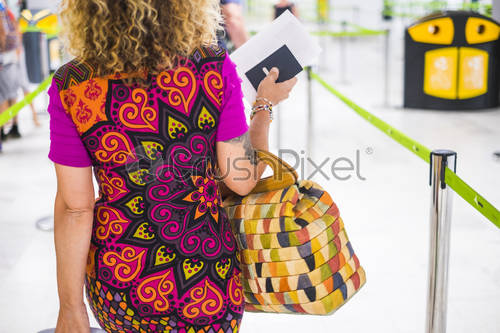shoulder bag: (208, 145, 373, 320)
